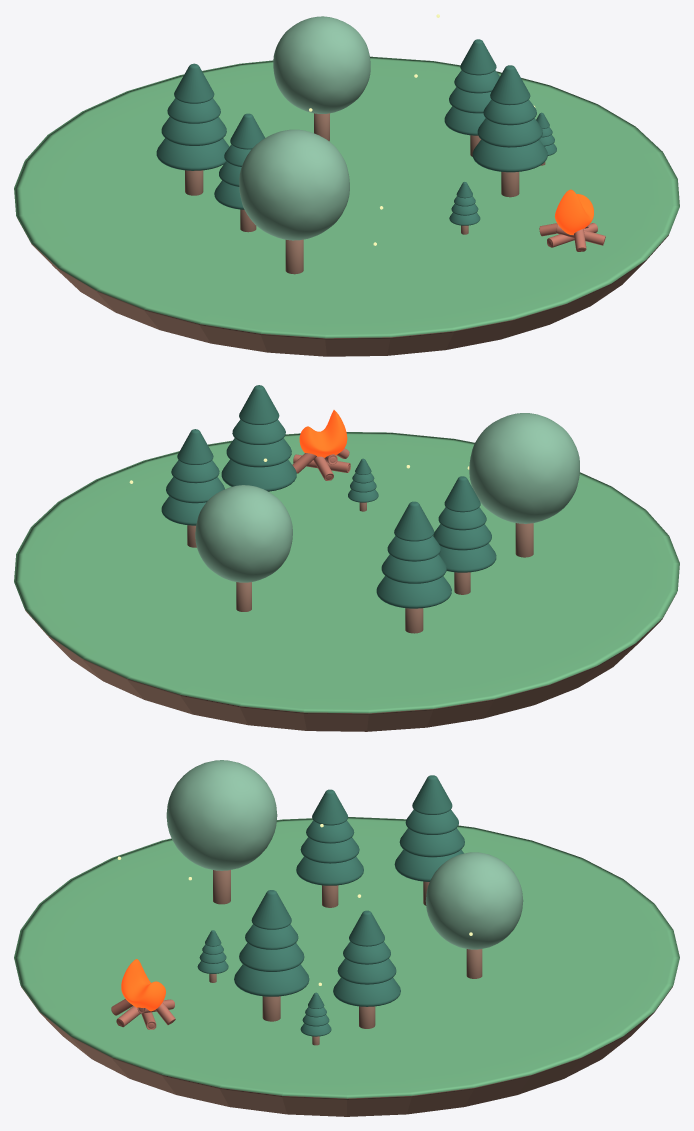
Rendered from Camping-bg-final.glb.
The picture shows the model from 3 angles, top to bottom: view 1: azimuth 30°, elevation 25°; view 2: azimuth 150°, elevation 25°; view 3: azimuth 270°, elevation 25°; orthographic projection.
Visible parts, largest first — view 1: Grass_floor, tree2, base_dirt, tree2.001, tree1, tree1.003, tree1.001, tree1.002, fire, tree1.004, Circle.002; view 2: Grass_floor, tree2, base_dirt, tree2.001, tree1.003, tree1, tree1.002, tree1.001, fire, tree1.004, Circle.002; view 3: Grass_floor, tree2, base_dirt, tree2.001, tree1, tree1.003, tree1.001, tree1.002, fire, tree1.004, tree1.005, Circle.002.
Part boxes in pixels (<box>): Grass_floor: <box>14,56,679,338</box>; tree2: <box>239,129,349,240</box>; base_dirt: <box>17,218,668,356</box>; tree2.001: <box>273,16,370,113</box>; tree1: <box>472,65,547,172</box>; tree1.003: <box>156,63,229,170</box>; tree1.001: <box>444,39,499,135</box>; tree1.002: <box>214,113,264,209</box>; fire: <box>554,189,593,234</box>; tree1.004: <box>449,182,480,225</box>; Circle.002: <box>285,239,303,274</box>; Grass_floor: <box>14,432,679,713</box>; tree2: <box>469,413,579,523</box>; base_dirt: <box>25,593,676,731</box>; tree2.001: <box>195,485,292,582</box>; tree1.003: <box>376,501,451,608</box>; tree1: <box>221,385,296,491</box>; tree1.002: <box>433,476,496,572</box>; tree1.001: <box>161,429,224,525</box>; fire: <box>299,410,347,457</box>; tree1.004: <box>348,458,378,502</box>; Circle.002: <box>515,523,533,557</box>; Grass_floor: <box>14,817,679,1098</box>; tree2: <box>166,760,277,870</box>; base_dirt: <box>21,986,672,1116</box>; tree2.001: <box>425,852,523,949</box>; tree1: <box>234,890,309,996</box>; tree1.003: <box>394,775,464,881</box>; tree1.001: <box>333,910,400,1006</box>; tree1.002: <box>296,789,363,885</box>; fire: <box>121,959,165,1011</box>; tree1.004: <box>197,930,228,973</box>; tree1.005: <box>300,992,331,1036</box>; Circle.002: <box>213,870,230,904</box>.
Bounding box in the file's own units: 11.12 × 3.08 × 11.12.
